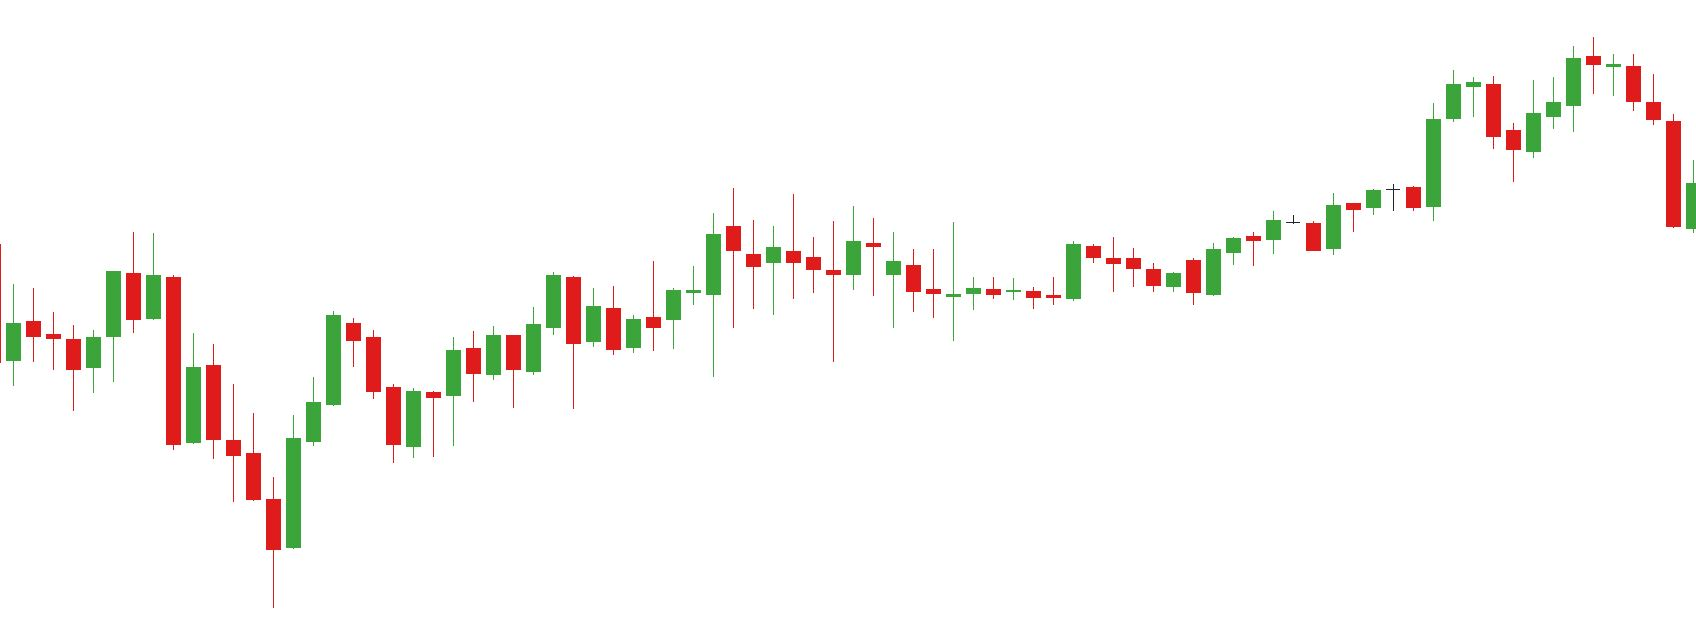sell: (1442, 39, 1645, 136), (4, 231, 144, 358)
